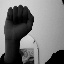a: (3, 4, 35, 43)
